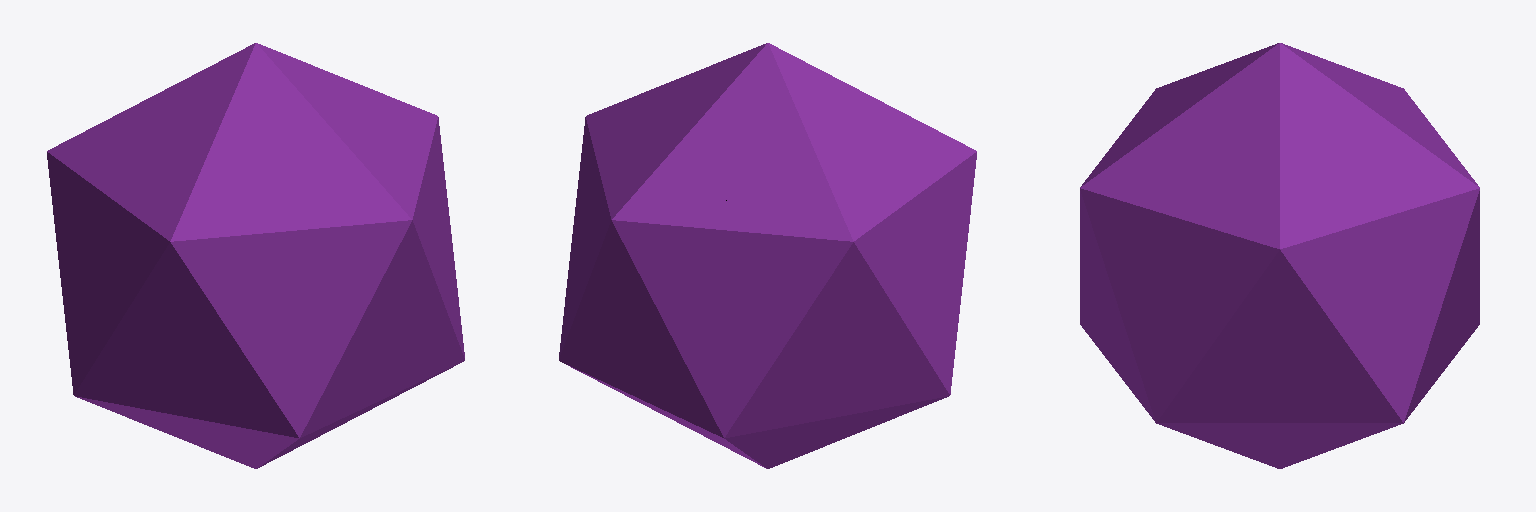
The picture shows the model from 3 angles: view 1: azimuth 30°, elevation 25°; view 2: azimuth 150°, elevation 25°; view 3: azimuth 270°, elevation 25°; orthographic projection.
Parts seen in each view (by area): view 1: ICO球; view 2: ICO球; view 3: ICO球.
Part boxes in pixels (x1,y1,x2,y2): ICO球: (47, 43, 464, 468); ICO球: (559, 43, 976, 468); ICO球: (1080, 43, 1479, 468).
Bounding box in the file's own units: 1.79 × 2 × 1.7.
Materials: 1 (1 with a texture image).